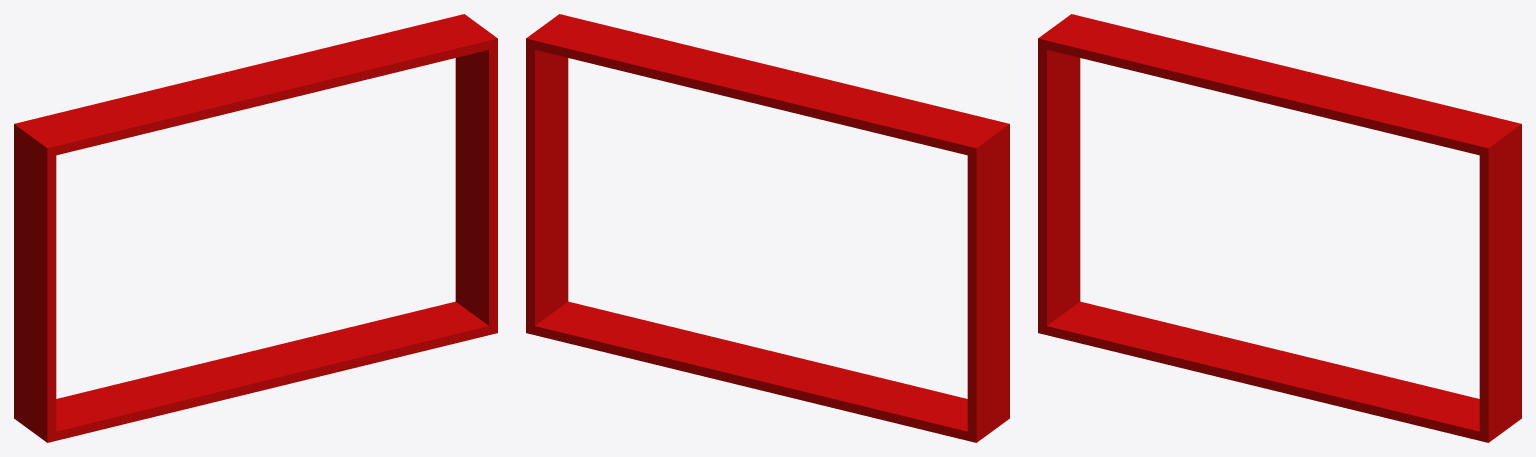
Rendered from regional_exposure_settings_edge.glb.
3 renders of one model, left to right at view 1: azimuth 30°, elevation 25°; view 2: azimuth 150°, elevation 25°; view 3: azimuth 330°, elevation 25°, orthographic.
Parts seen in each view (by area): view 1: world; view 2: world; view 3: world.
Part boxes in pixels (x1,y1,x2,y2): world: [14, 14, 497, 442]; world: [526, 14, 1009, 442]; world: [1038, 14, 1521, 442].
Size of the model in its own units: 19.46 by 12.16 by 2.5.
